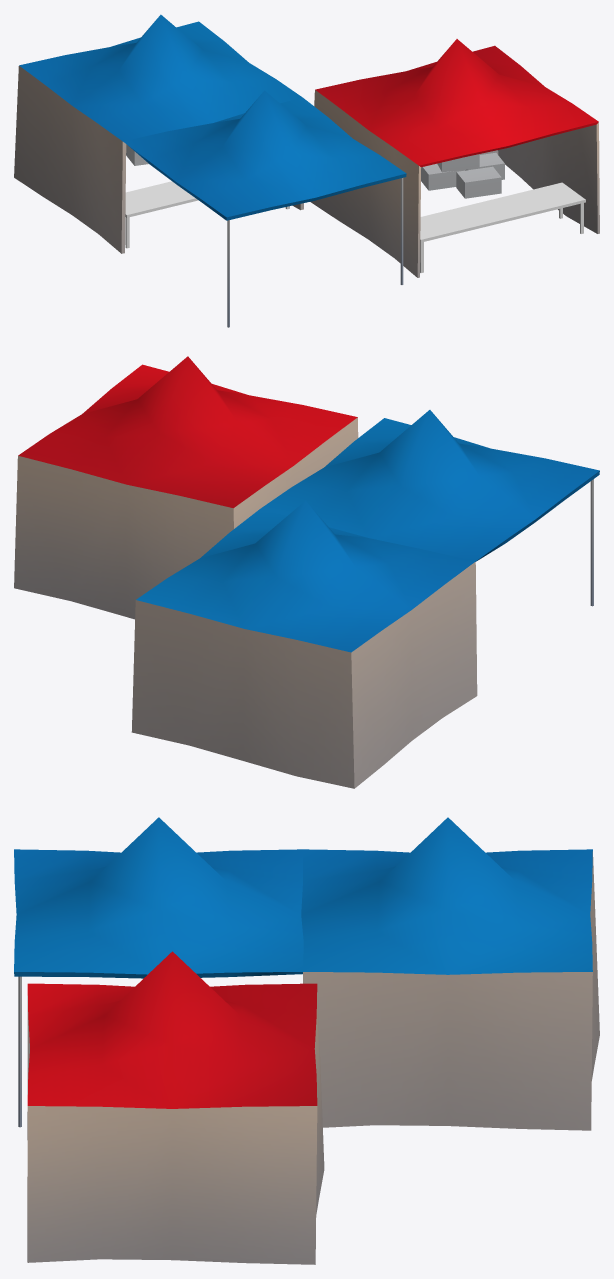
The model's file is kojut.fbx.
The picture shows the model from 3 angles, top to bottom: view 1: azimuth 30°, elevation 25°; view 2: azimuth 150°, elevation 25°; view 3: azimuth 270°, elevation 25°; orthographic projection. The views are drawn at different scales.
Visible parts, largest first — view 1: koju_iso, koju_pieni; view 2: koju_iso, koju_pieni; view 3: koju_iso, koju_pieni.
Boxes of the visible parts, box(x1,y1,x2,y2) form: koju_iso: box(14, 14, 406, 327); koju_pieni: box(310, 39, 599, 277); koju_iso: box(131, 410, 599, 788); koju_pieni: box(14, 356, 358, 619); koju_iso: box(14, 817, 599, 1130); koju_pieni: box(27, 951, 324, 1264).
Bounding box in the file's own units: 33.61 × 14.97 × 31.79.
